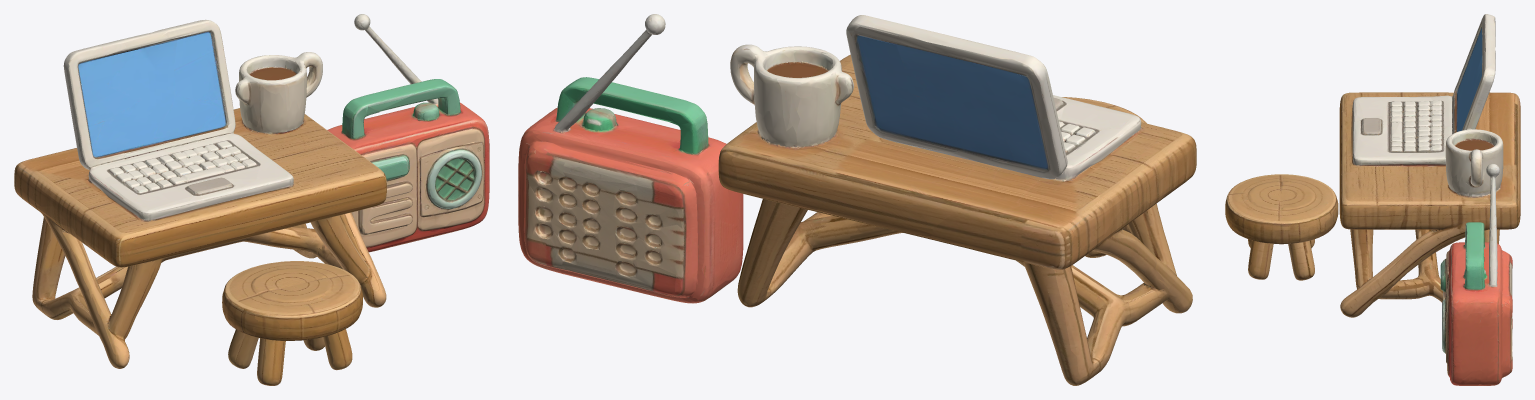
File: folding-laptop-radio-workstation-meshy6-web-v3.glb
3 views of the same model, side by side, from view 1: azimuth 30°, elevation 25°; view 2: azimuth 150°, elevation 25°; view 3: azimuth 270°, elevation 25° (orthographic). The views are drawn at different scales.
Size of the model in its own units: 1.9 by 1.04 by 1.3.
1 material, 1 textured.
